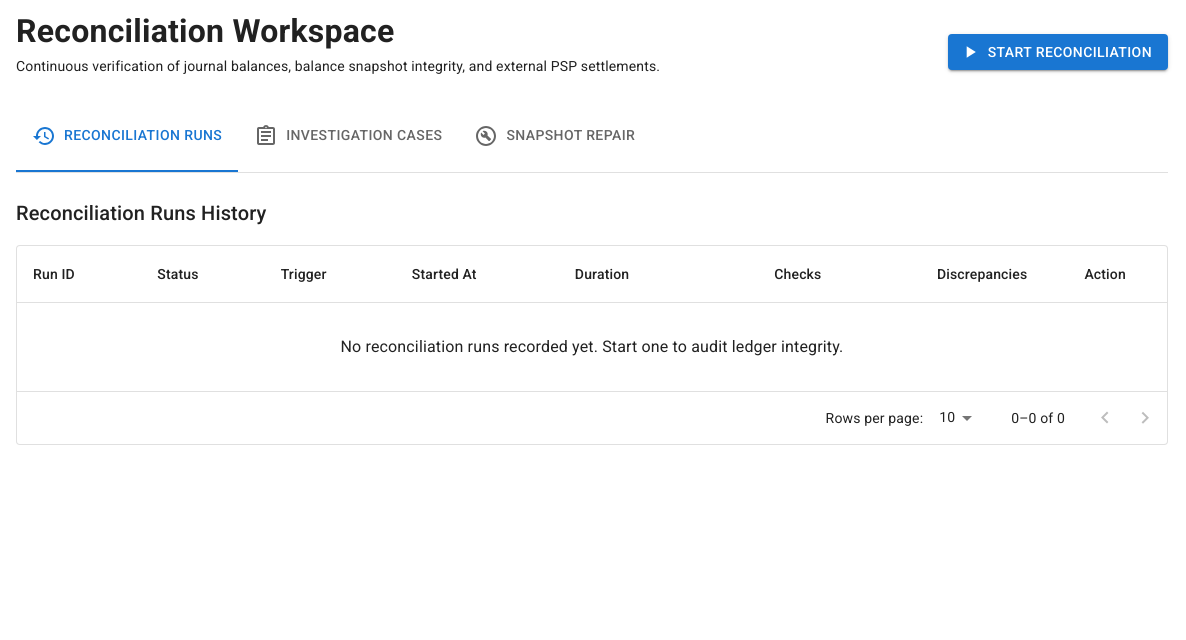
Scenario: Operations Workspace & Reconciliation UI › Reconciliation Tab Switching with Search Params › switches between Runs, Cases, and Snapshot Repair views
expect the heading "Reconciliation Runs History" is shown: met, box [16, 196, 266, 228]
Click Investigation Cases tab
Click the tab "Investigation Cases": (348, 136) [238, 100, 458, 172]
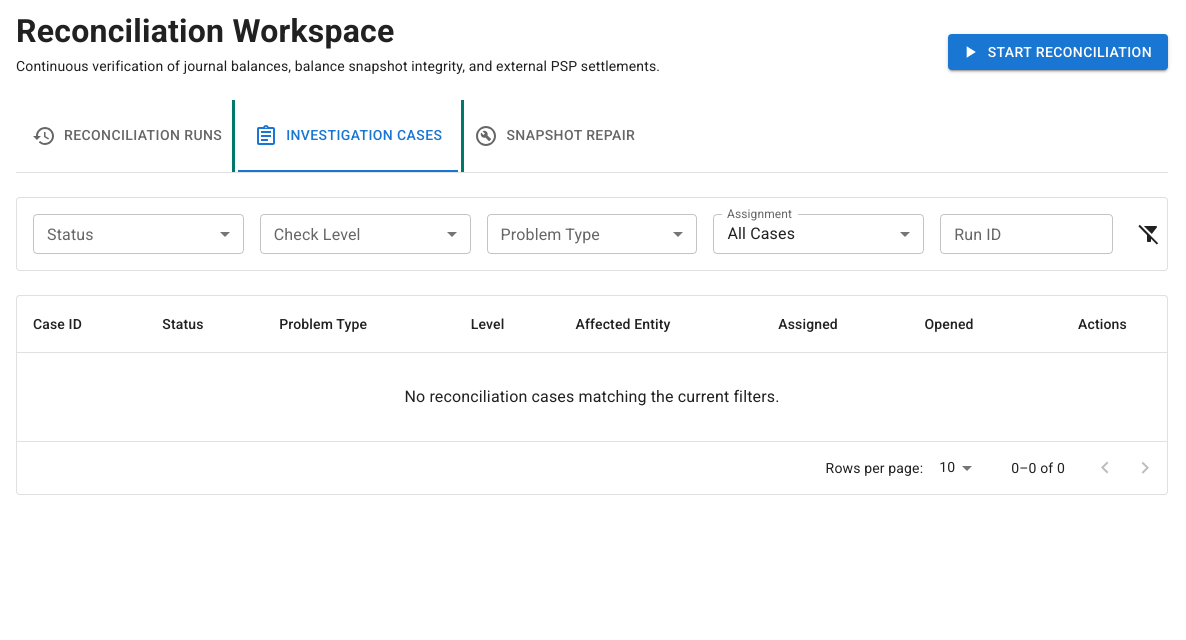
expect the field with placeholder "Filter by Run ID" is shown: met, box [940, 214, 1113, 254]
Click Snapshot Repair tab
Click the tab "Snapshot Repair": (555, 136) [458, 100, 651, 172]
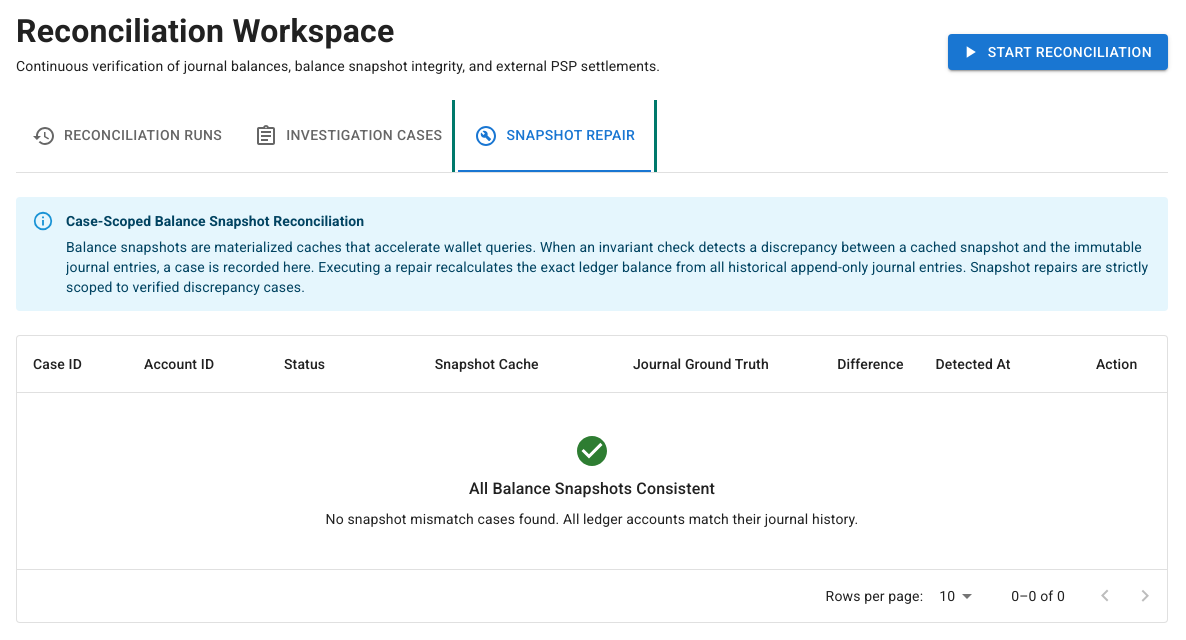
expect the heading "Case-Scoped Balance Snapshot Reconciliation" is shown: met, box [66, 212, 364, 228]
